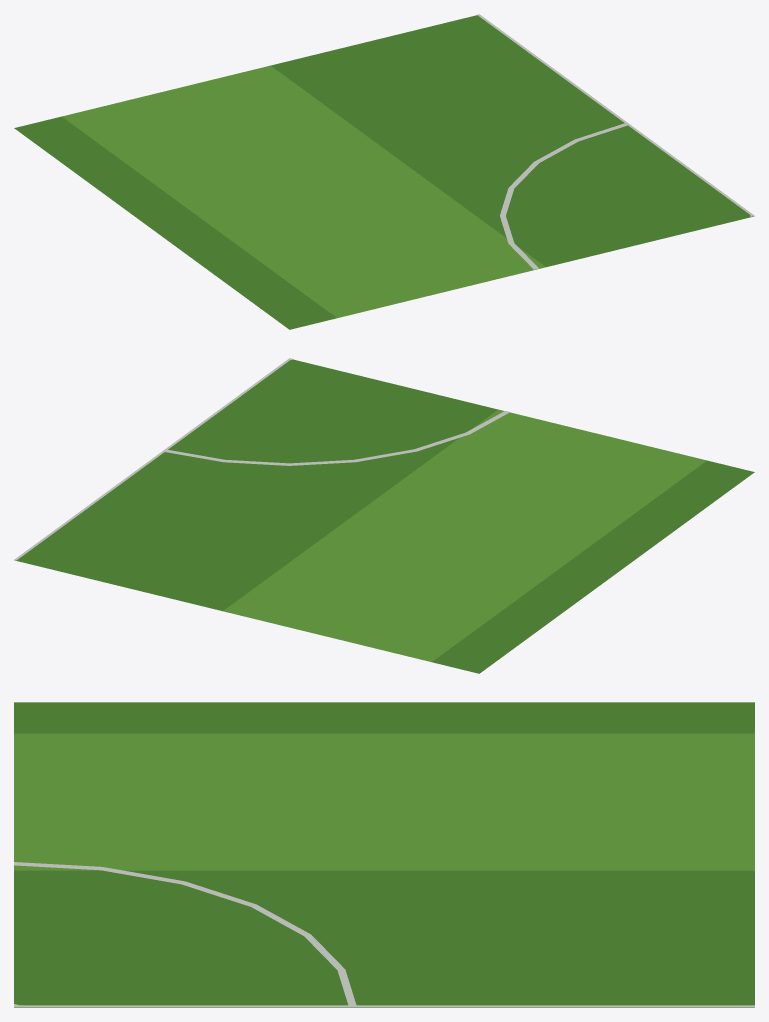
File: pitch_2_1.glb
The picture shows the model from 3 angles, top to bottom: view 1: azimuth 30°, elevation 25°; view 2: azimuth 150°, elevation 25°; view 3: azimuth 270°, elevation 25°; orthographic projection. The views are drawn at different scales.
Visible parts, largest first — view 1: pitch_2_1; view 2: pitch_2_1; view 3: pitch_2_1.
Boxes of the visible parts, bbox=[...] form: pitch_2_1: bbox=[14, 14, 754, 329]; pitch_2_1: bbox=[14, 358, 754, 673]; pitch_2_1: bbox=[14, 702, 754, 1007].
Bounding box in the file's own units: 19.5 × 0.02 × 20.
